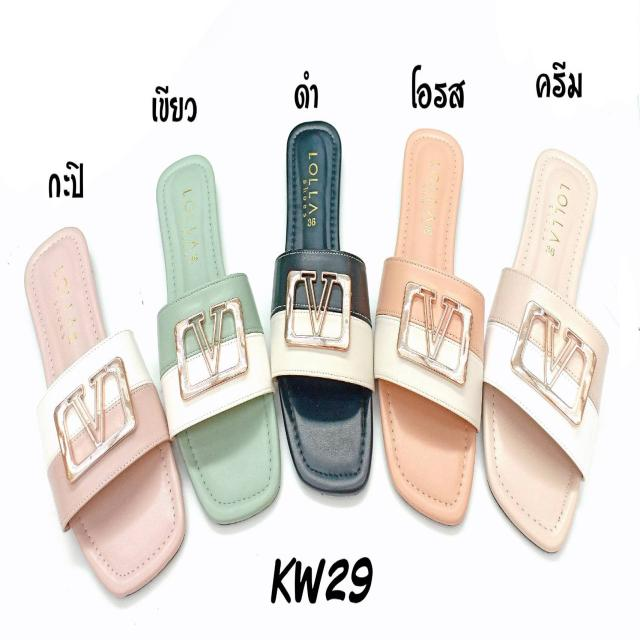black: (283, 128, 368, 484)
cream: (487, 150, 593, 538)
green: (157, 158, 276, 521)
kapi: (32, 234, 184, 585)
orot: (387, 128, 476, 524)
